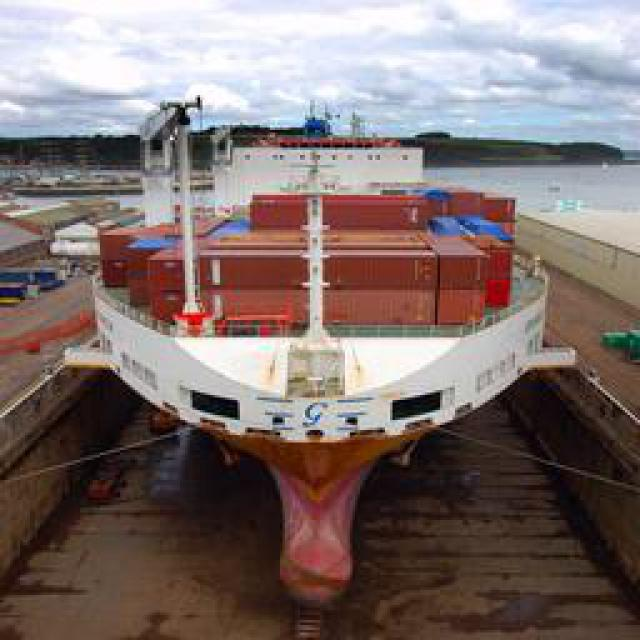Ship: (76, 116, 571, 506)
